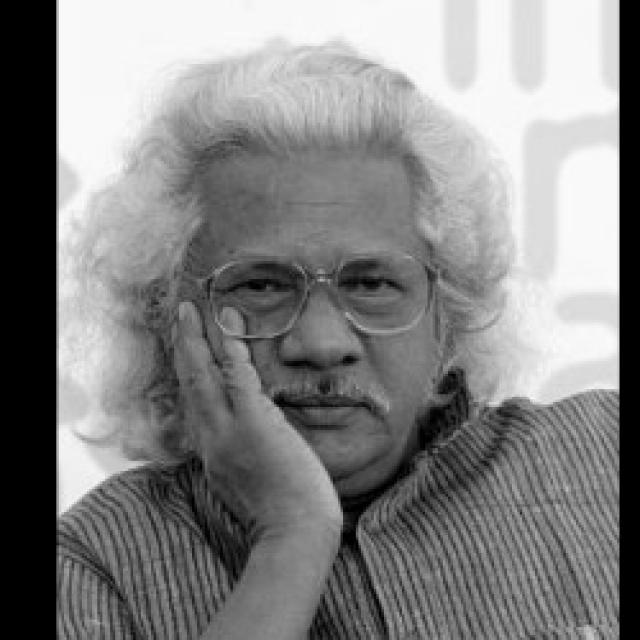real: (192, 140, 443, 476), (208, 245, 416, 320)
